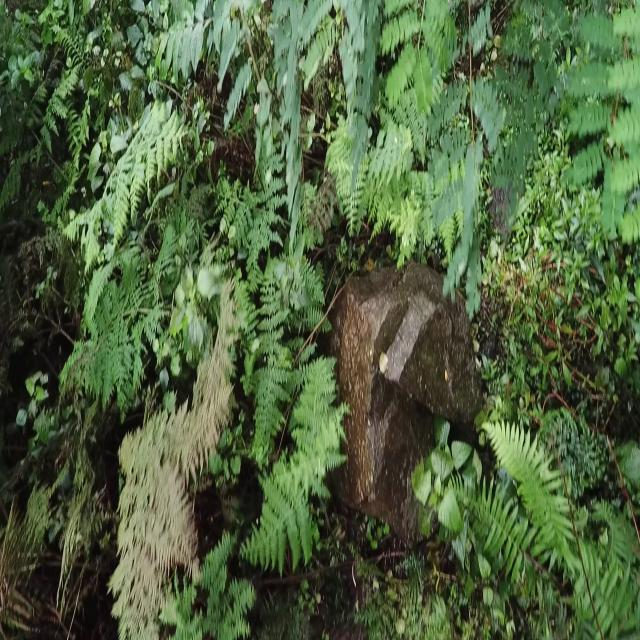Mysore-Thorn-Weed: (274, 0, 638, 245)
